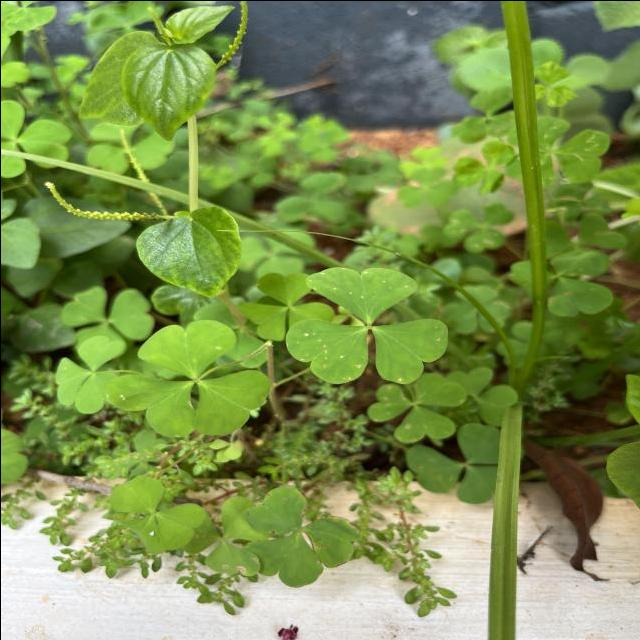Oxalis corniculata: (105, 318, 271, 438), (284, 265, 450, 385), (240, 483, 362, 588), (108, 474, 207, 554), (365, 371, 466, 442), (54, 333, 122, 414)
